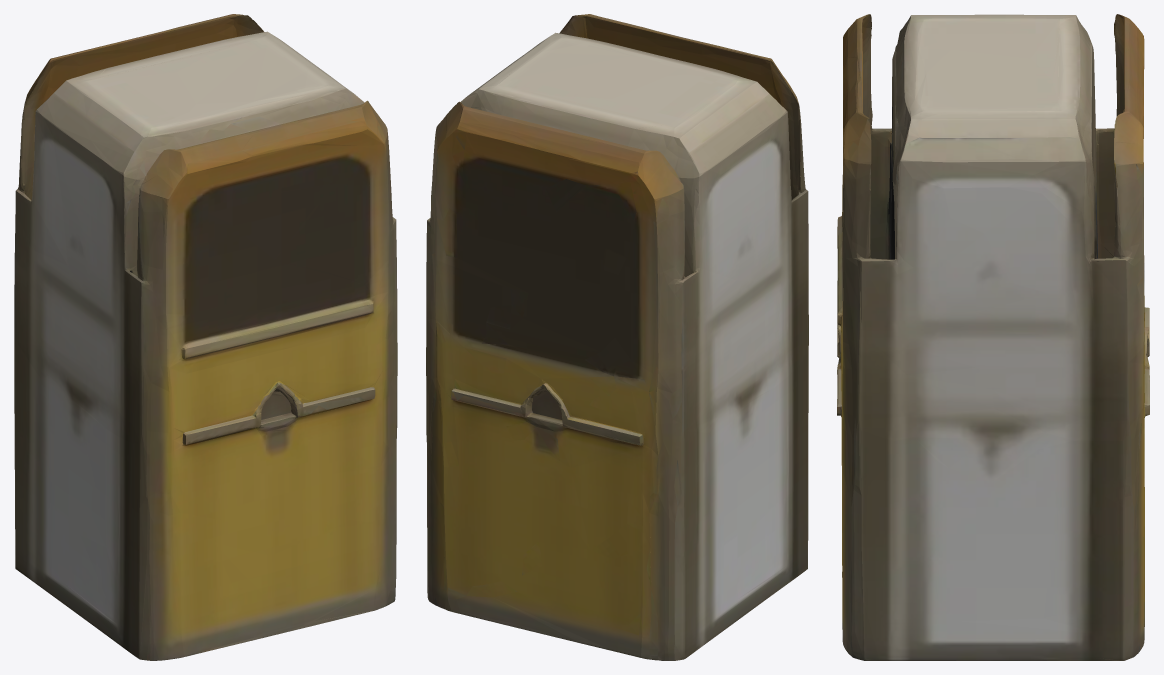
File: drink_milkshake_whipped.glb
3 views of the same model, side by side, from view 1: azimuth 30°, elevation 25°; view 2: azimuth 150°, elevation 25°; view 3: azimuth 270°, elevation 25° (orthographic). The views are drawn at different scales.
Visible parts, largest first — view 1: geometry_0; view 2: geometry_0; view 3: geometry_0.
Boxes of the visible parts, box(x1,y1,x2,y2) form: geometry_0: box(14, 14, 397, 660); geometry_0: box(426, 14, 808, 660); geometry_0: box(837, 14, 1149, 660).
Bounding box in the file's own units: 0.5406 × 1 × 0.535.
Materials: 1 (1 with a texture image).
